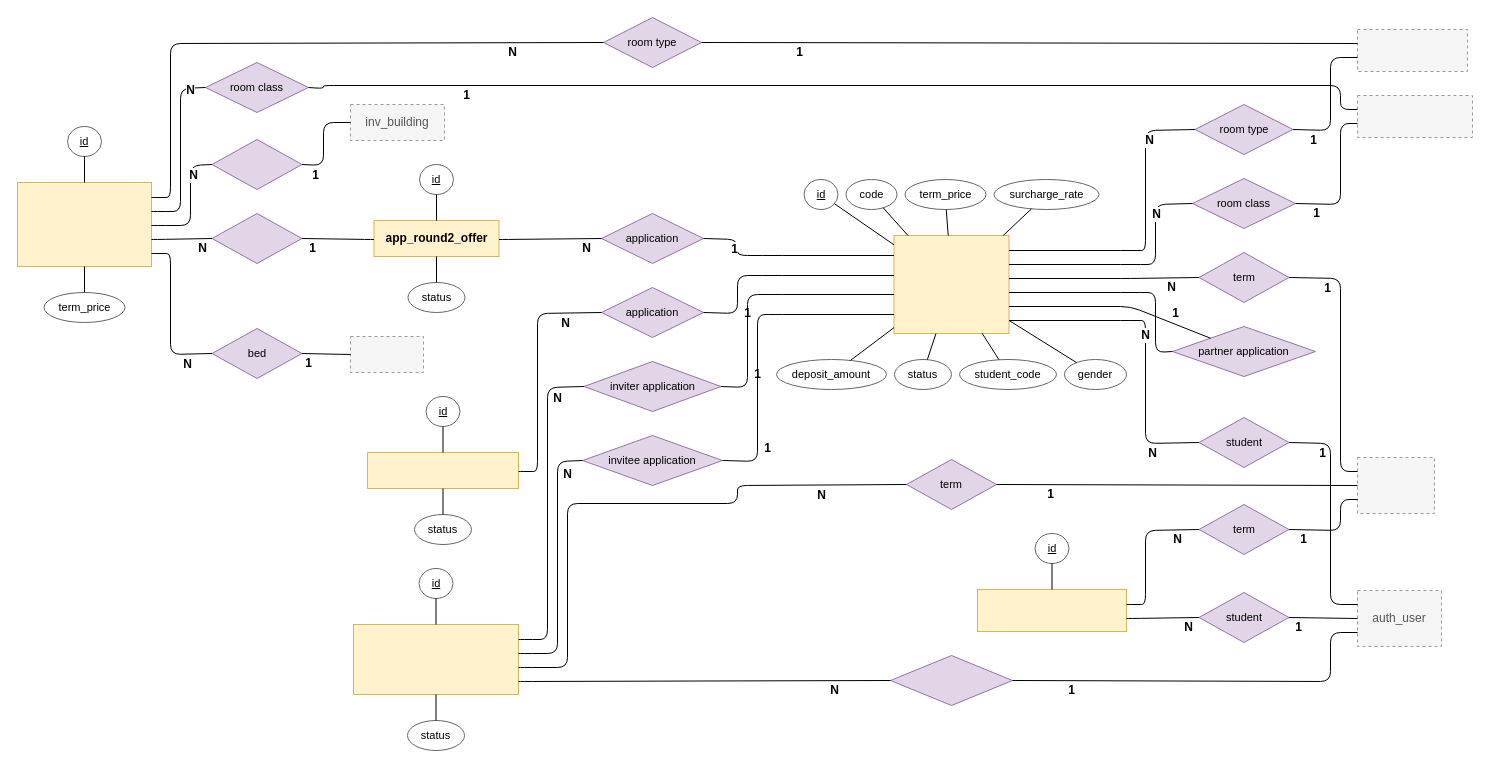
This 1490x768 diagram has some shape labels left out. Here are the shapes that lost their labels. From the top down, the centre of each, then its label:
point (1412, 50): cfg_room_type
point (1414, 116): cfg_room_class
point (256, 164): building
point (84, 224): app_round2_option
point (256, 238): offer
point (951, 284): app_application
point (387, 354): inv_bed
point (442, 470): app_application_event
point (1395, 485): cfg_term
point (1051, 610): app_roommate_check
point (435, 659): app_roommate_invitation
point (951, 680): invitee student
